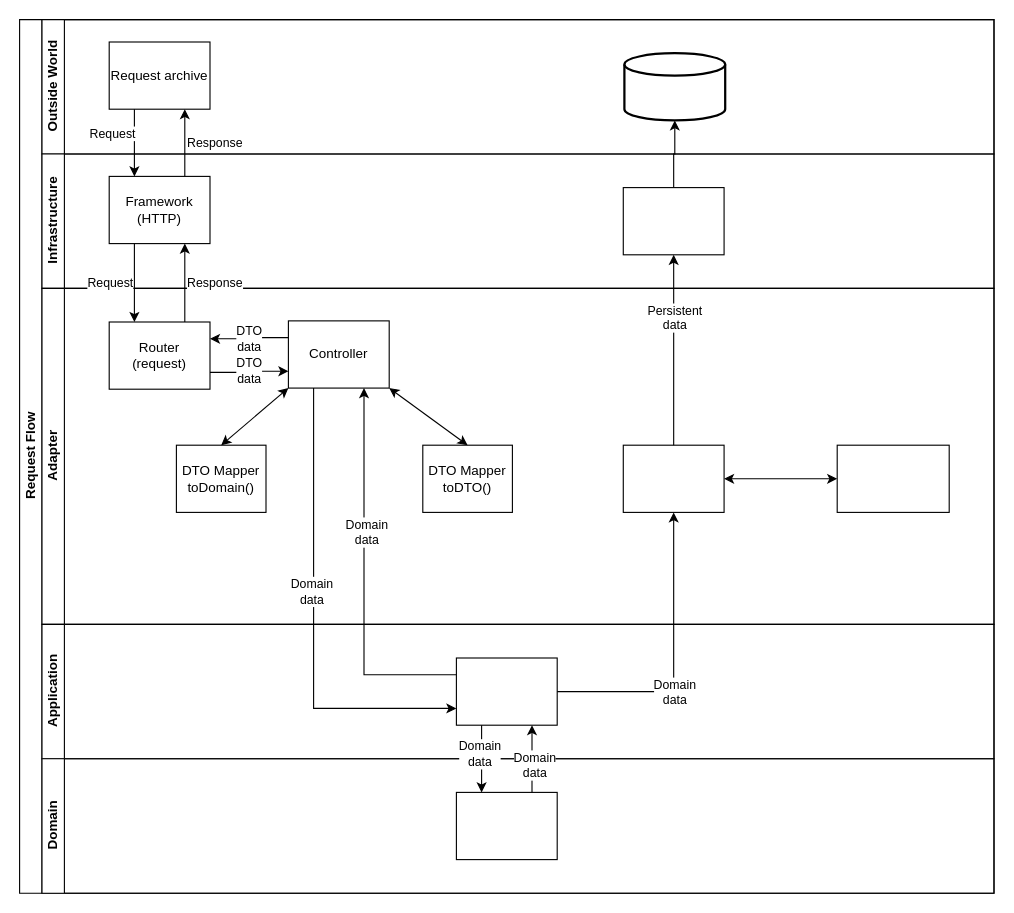
This 1014x913 diagram has some shape labels left out. Here are the shapes that lost their labels. From the top down, the centre of each, then its label:
At (674,86): "Storage".
At (673,220): "Persistence Interface".
At (673,478): "Repository".
At (892,478): "Repository Mapper toRepository()".
At (506,691): "Create Request Use Case".
At (506,825): "Backup Request Entity (create)".
